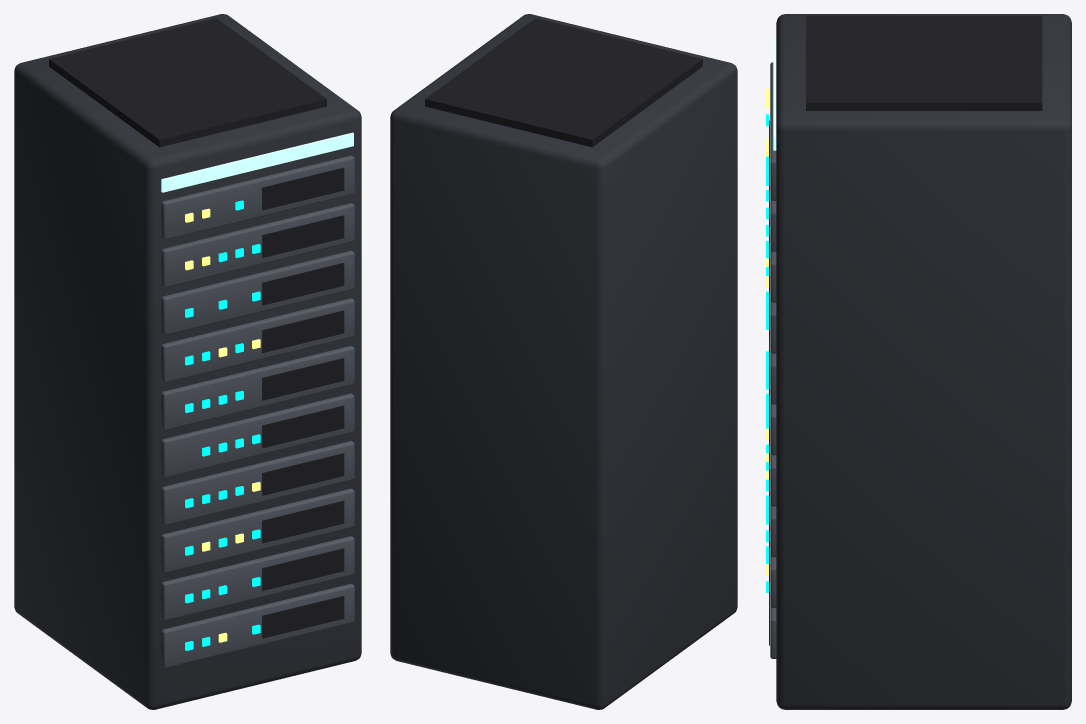
File: rack.glb
3 renders of one model, left to right at view 1: azimuth 30°, elevation 25°; view 2: azimuth 150°, elevation 25°; view 3: azimuth 270°, elevation 25°, orthographic. The views are drawn at different scales.
Parts seen in each view (by area): view 1: rack; view 2: rack; view 3: rack.
Part boxes in pixels (<box>): rack: <box>14,14,361,709</box>; rack: <box>390,14,737,709</box>; rack: <box>766,14,1071,709</box>.
Size of the model in its own units: 0.9 by 2.23 by 1.03.
